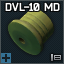DVL-10 muzzle device: (0, 0, 64, 64)
